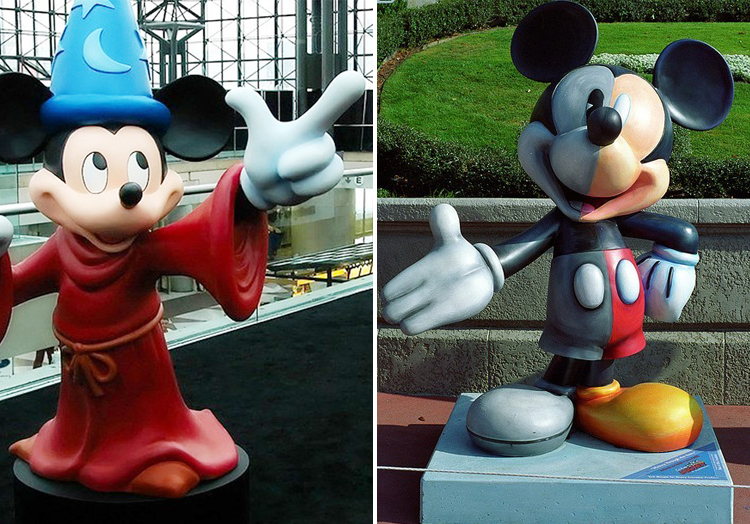Mickey: (498, 1, 738, 221), (1, 53, 234, 256)
